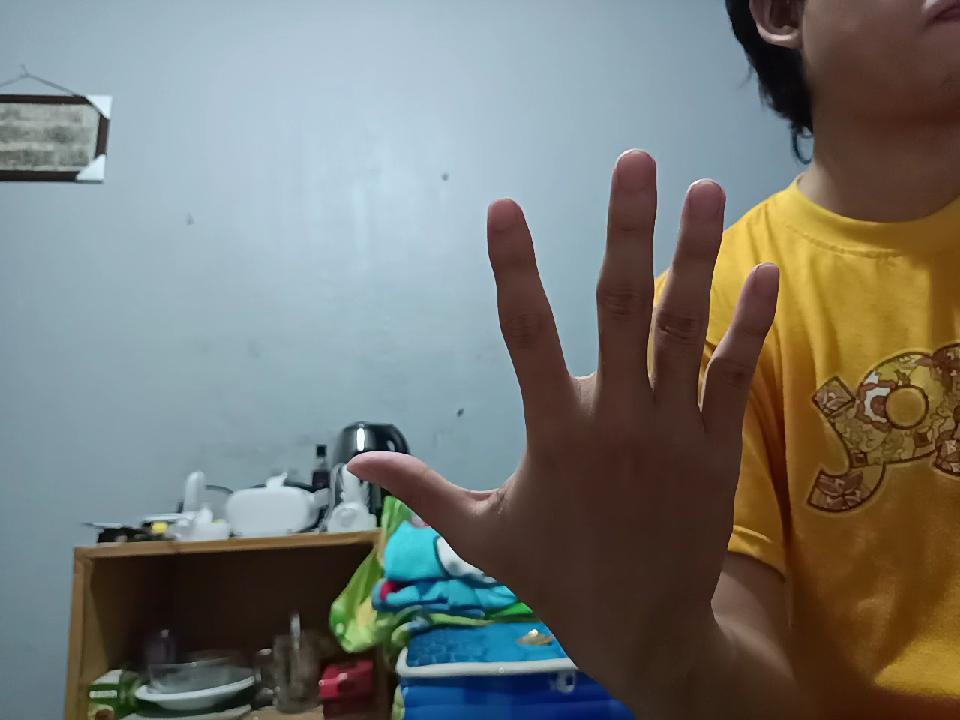paper: (382, 166, 814, 670)
